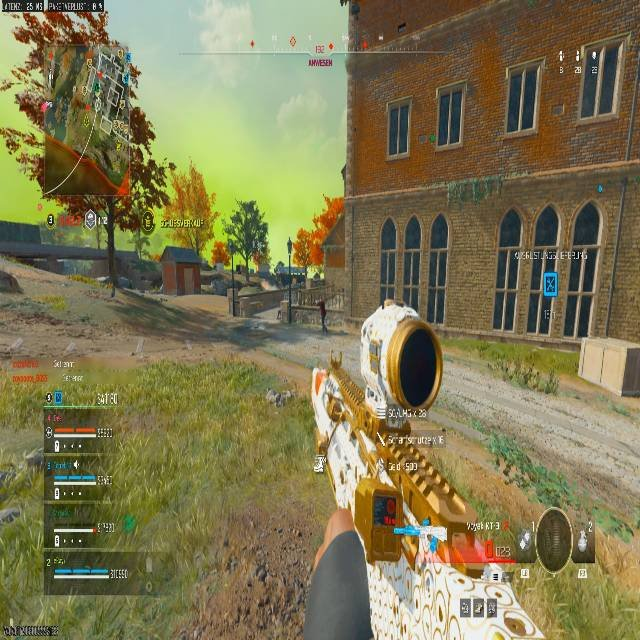player: (316, 298, 328, 334)
